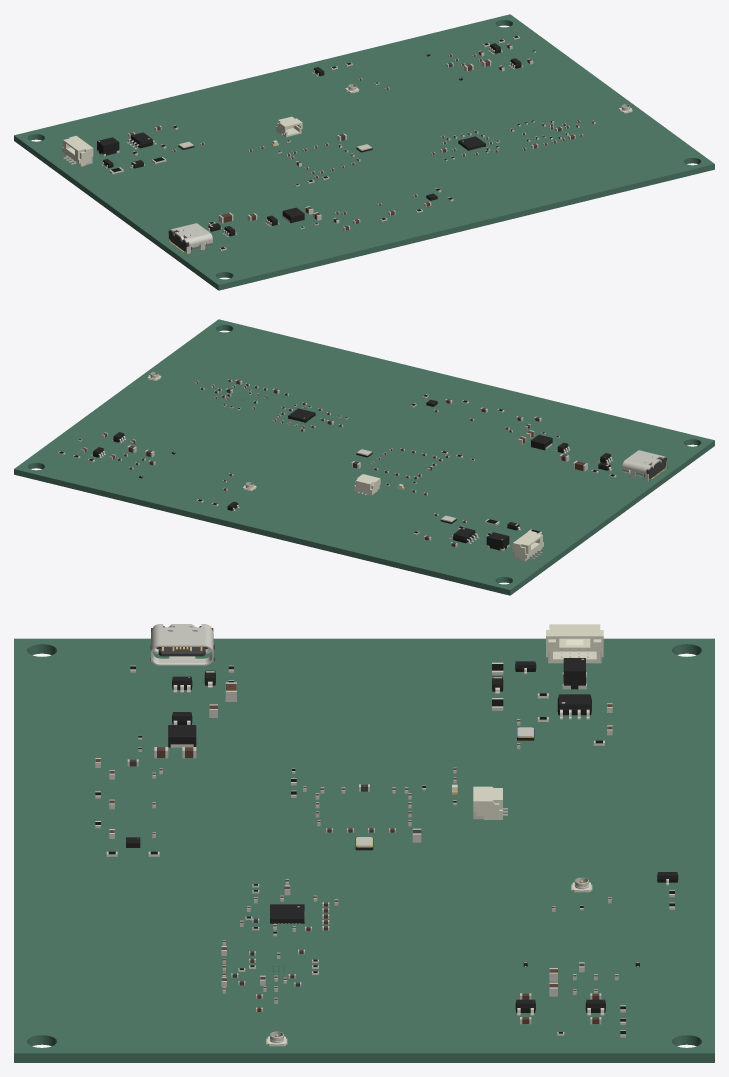
The model's file is rev_b.glb.
3 views of the same model, one above another, from view 1: azimuth 30°, elevation 25°; view 2: azimuth 150°, elevation 25°; view 3: azimuth 270°, elevation 25° (orthographic). The views are drawn at different scales.
Visible parts, largest first — view 1: =>[0:1:1:29], J1, J2; view 2: =>[0:1:1:29], J1, J2, J10; view 3: =>[0:1:1:29], J1, J2, J10, U50, FL50, U40.
Part boxes in pixels (bbox=[...]): =>[0:1:1:29]: bbox=[14, 14, 714, 290]; J1: bbox=[168, 223, 212, 253]; J2: bbox=[62, 135, 93, 166]; =>[0:1:1:29]: bbox=[14, 319, 714, 595]; J1: bbox=[622, 450, 666, 481]; J2: bbox=[512, 530, 543, 561]; J10: bbox=[354, 474, 380, 495]; =>[0:1:1:29]: bbox=[14, 638, 714, 1062]; J1: bbox=[151, 624, 213, 665]; J2: bbox=[546, 624, 603, 663]; J10: bbox=[473, 786, 507, 819]; U50: bbox=[557, 694, 591, 719]; FL50: bbox=[562, 658, 586, 689]; U40: bbox=[270, 904, 304, 923].
Size of the model in its own units: 0.14 by 0.00584 by 0.1.
